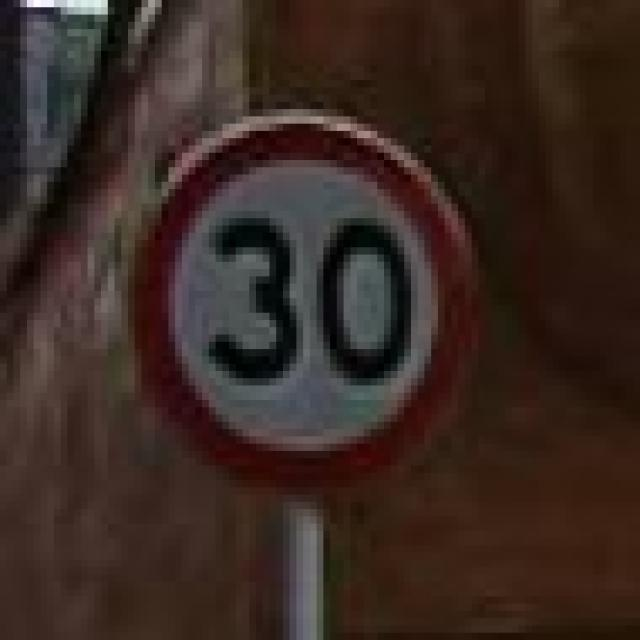Speed Limit -30-: (198, 210, 418, 393)
